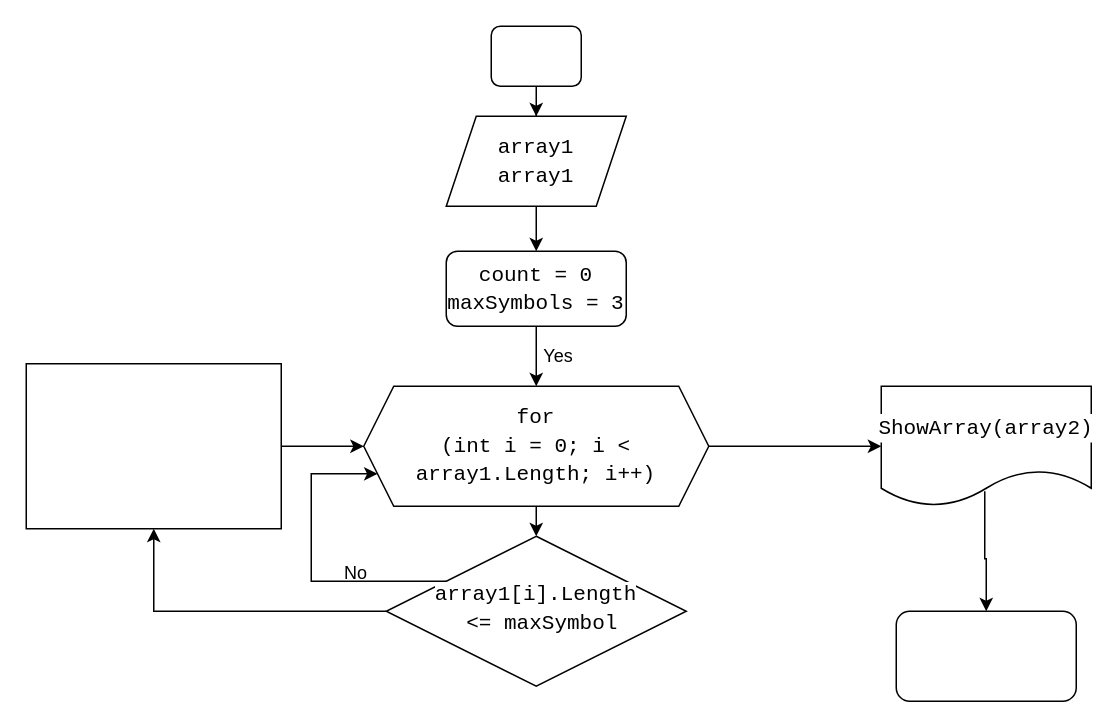
Image size: 1119x728. Some labels were removed from this diagram. The shapes that lost their labels are listed below. From the top down, each one's centre as x and y in pixels, then its label:
point 535,55: Start
point 153,445: array2[count] = array1[i]; count++
point 985,655: Finish
